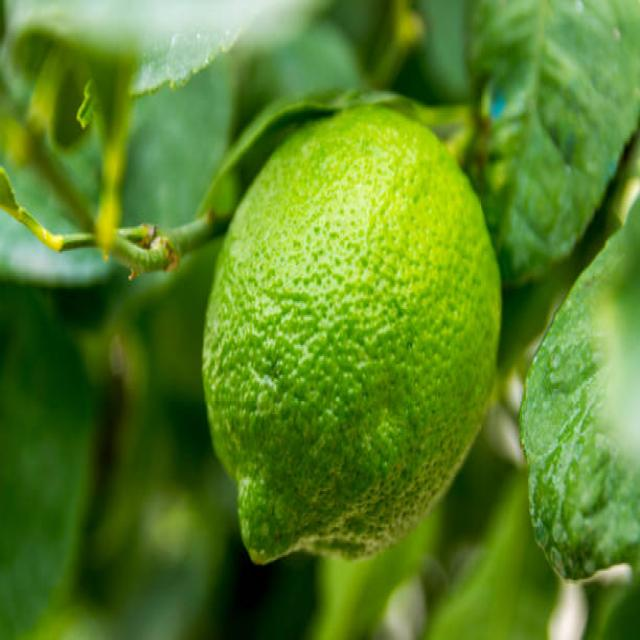Unripe: (203, 109, 502, 566)
